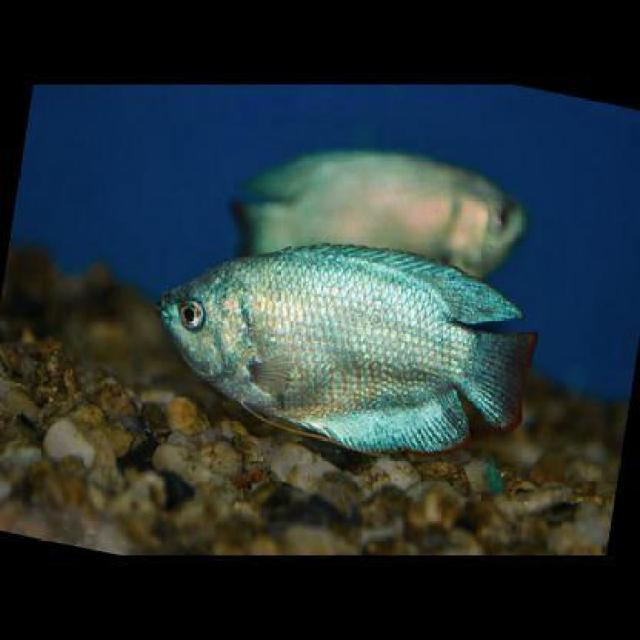Gourami: (148, 243, 535, 459)
